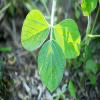Soyabean leaf: (37, 38, 66, 94), (20, 9, 50, 51), (52, 18, 81, 59)
